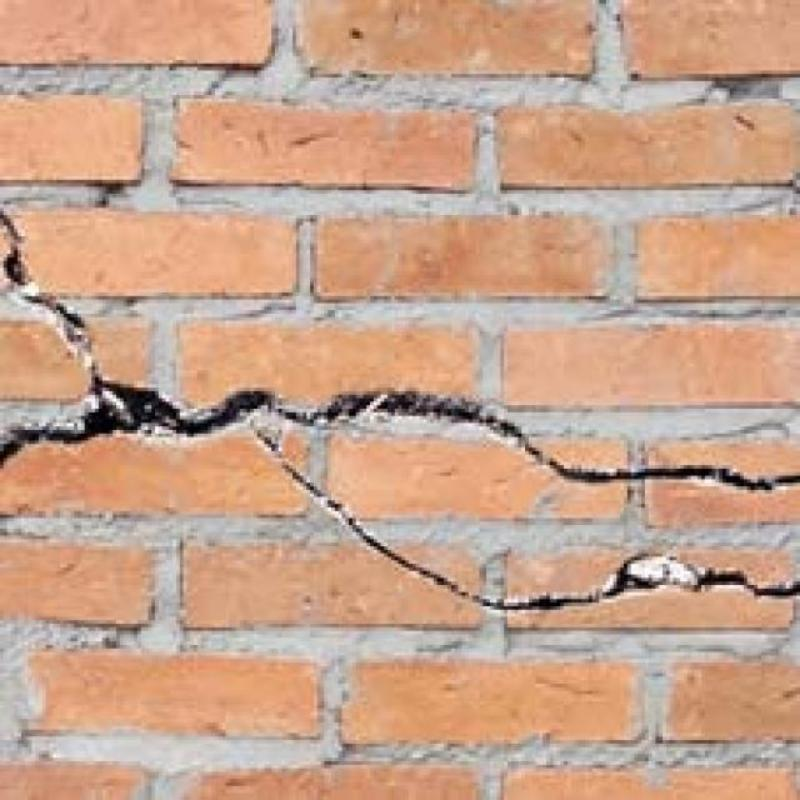pothole: (0, 213, 800, 488), (256, 430, 800, 610)
